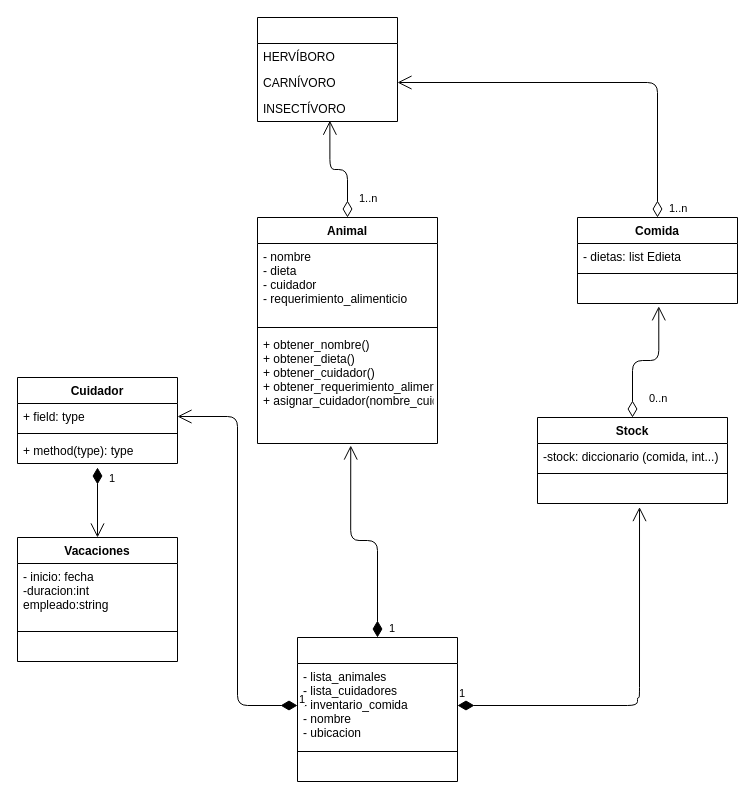
This 755x802 diagram has some shape labels left out. The shapes that lost their labels are listed below. From the top down, each one's box as (x1, y1, x2, y2) in pixels, then its label:
(256, 16, 398, 122): EDieta
(296, 636, 458, 782): Zoo
